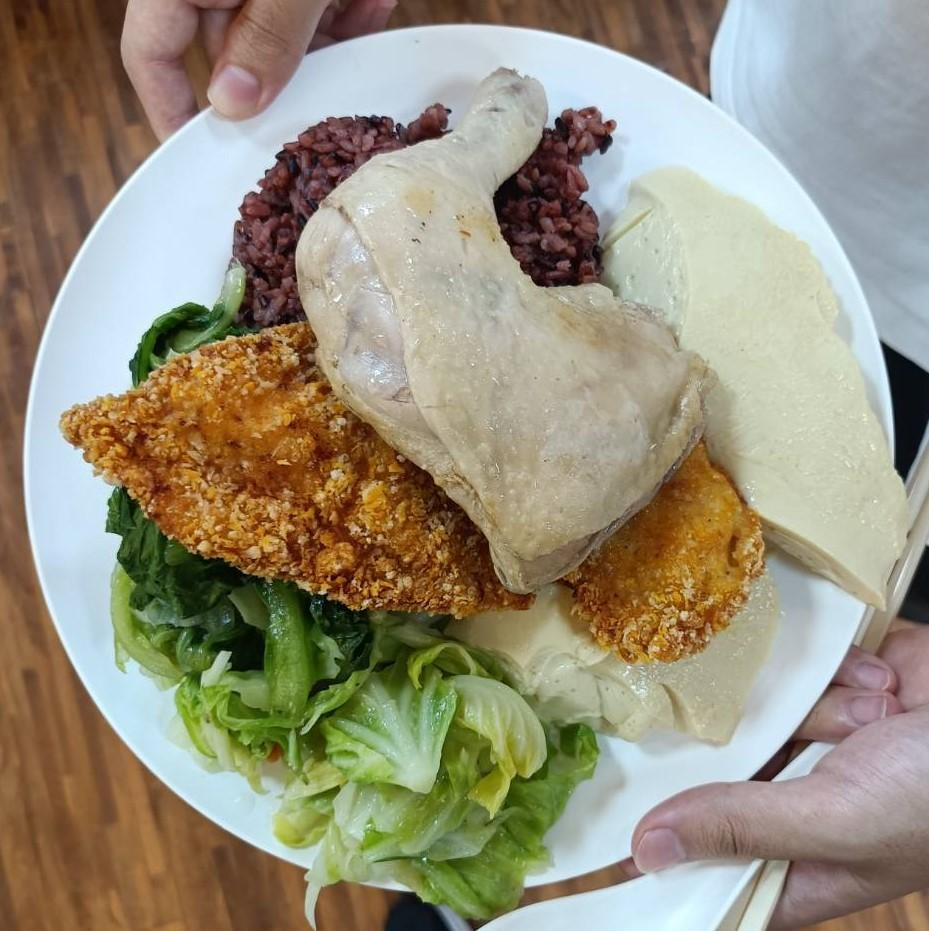big fried chicken leg: (22, 24, 920, 912)
braised fish: (232, 110, 621, 310)
braised fish fillet: (653, 192, 872, 561), (297, 643, 566, 888), (102, 572, 379, 755)
braised pork: (72, 328, 744, 637)
brown rice: (302, 74, 703, 564)
